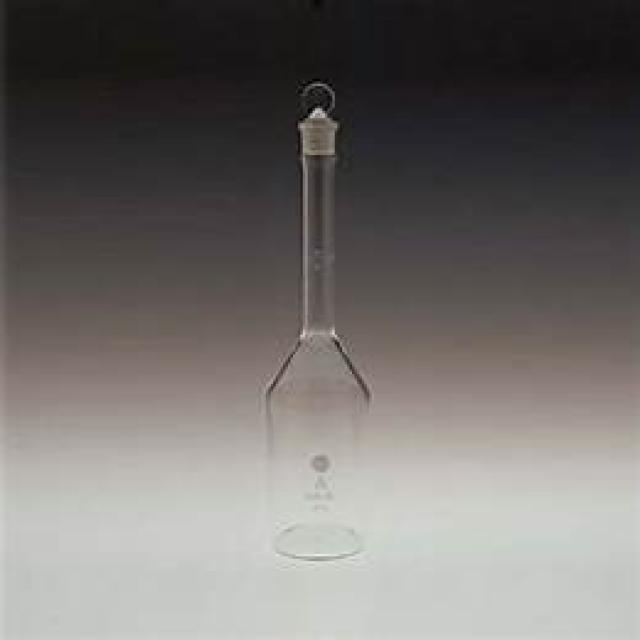Volumetric flask: (261, 83, 374, 568)
